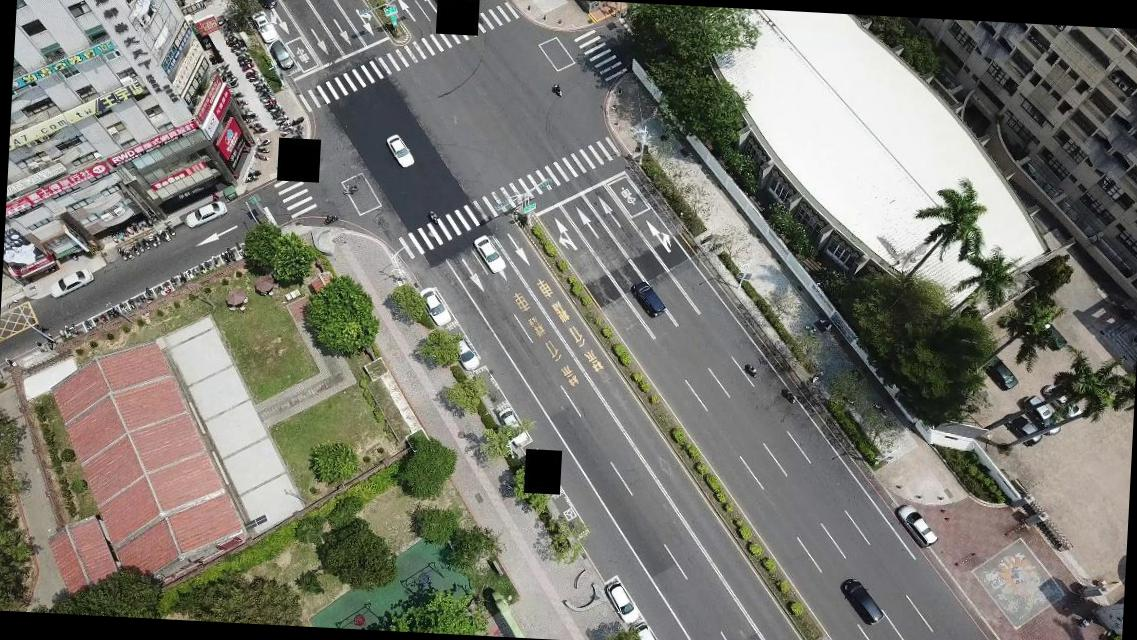vehicle: (838, 578, 884, 626), (892, 502, 938, 550), (492, 406, 530, 449), (1022, 395, 1060, 435), (1040, 383, 1080, 421), (629, 279, 665, 320), (981, 348, 1016, 388), (606, 582, 640, 622), (473, 234, 506, 275), (50, 267, 92, 299), (447, 334, 479, 374), (419, 286, 450, 327), (1005, 412, 1041, 445), (182, 200, 224, 228), (386, 134, 416, 168), (1038, 317, 1065, 350), (250, 11, 276, 40), (270, 39, 294, 69), (251, 0, 278, 12)
